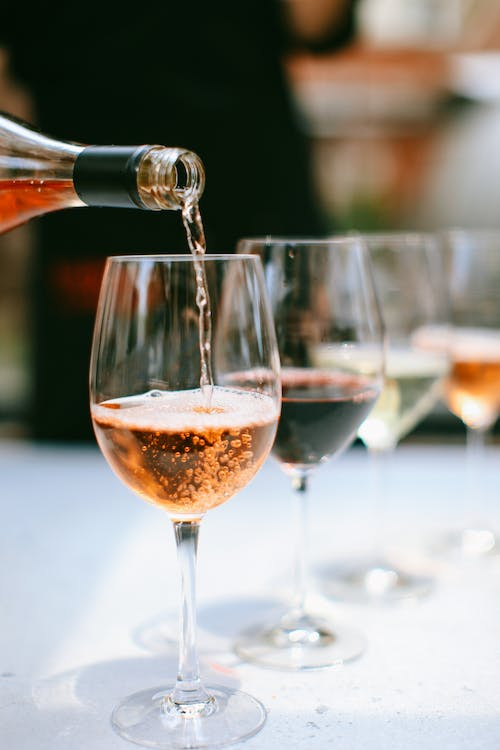alcohol: (87, 252, 283, 750), (231, 236, 387, 673), (314, 229, 455, 609), (0, 106, 208, 242), (422, 227, 500, 564)
